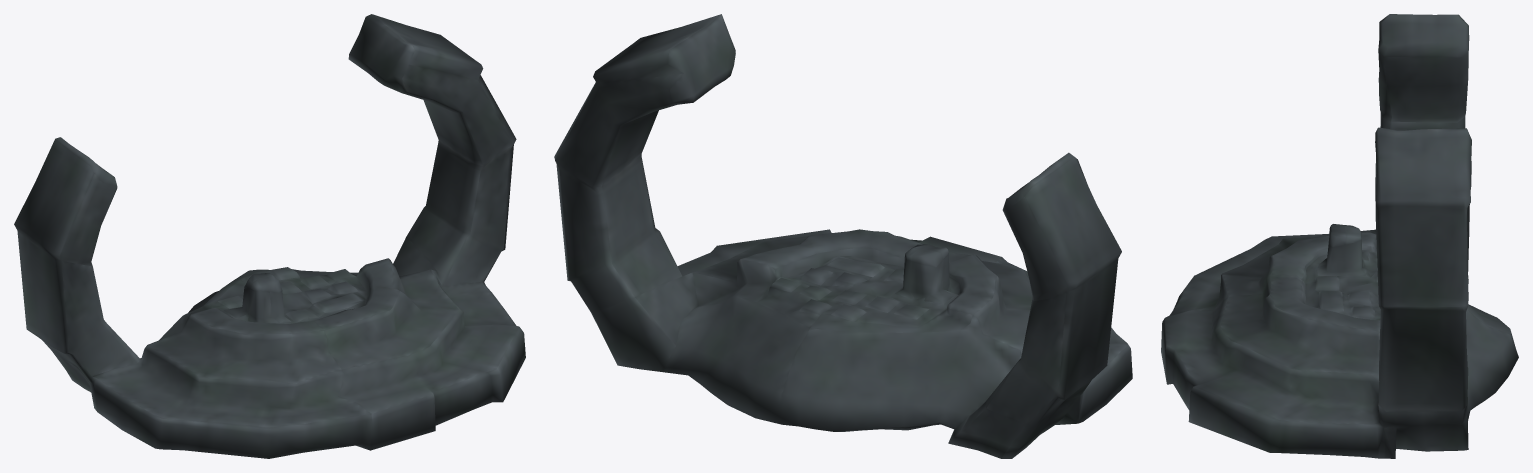
The model's file is Portal.fbx.
The picture shows the model from 3 angles, left to right: view 1: azimuth 30°, elevation 25°; view 2: azimuth 150°, elevation 25°; view 3: azimuth 270°, elevation 25°; orthographic projection. The views are drawn at different scales.
Parts seen in each view (by area): view 1: Portal; view 2: Portal; view 3: Portal.
Boxes of the visible parts, x1,y1,x2,y2 form: Portal: [14, 14, 525, 458]; Portal: [554, 14, 1132, 458]; Portal: [1161, 14, 1518, 458].
Size of the model in its own units: 1045 by 635 by 680.
Materials: 1 (1 with a texture image).
